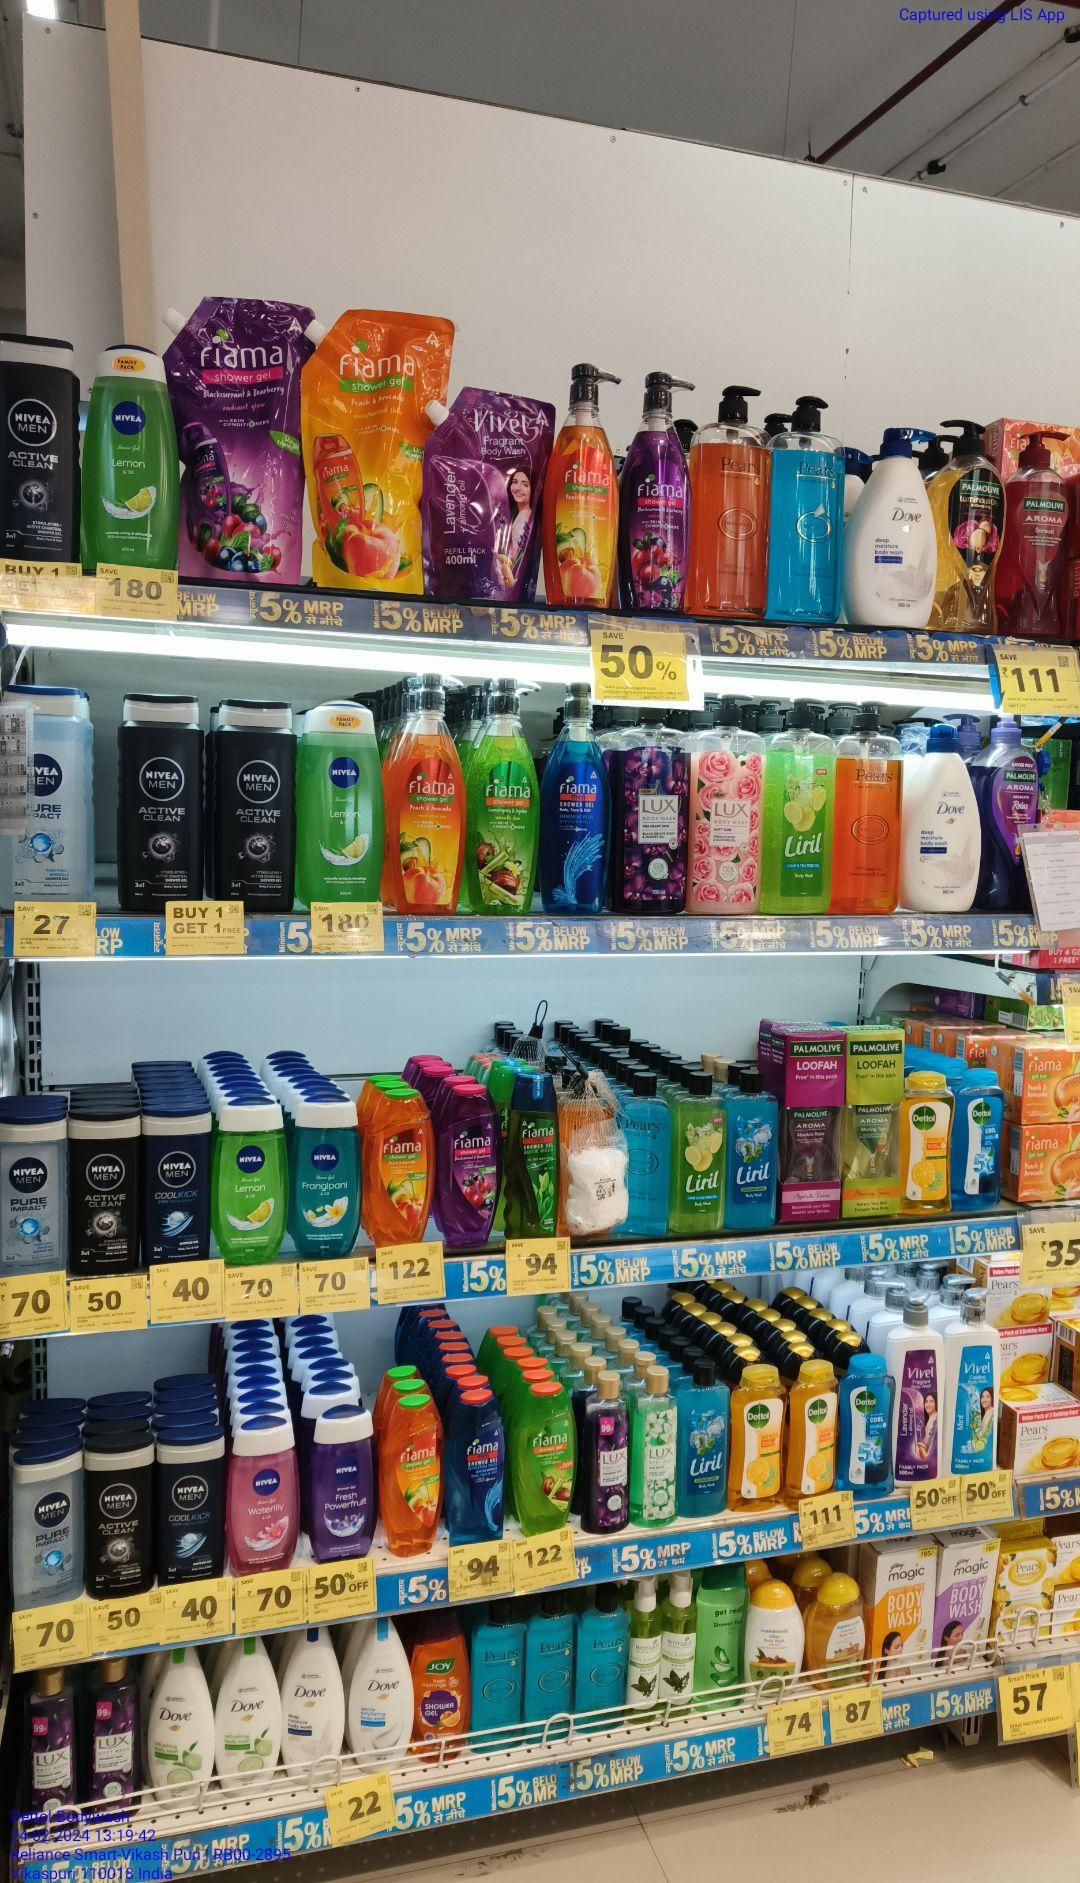Dettol_Bodywash_Cool: (351, 1610, 410, 1777), (847, 1355, 895, 1492), (957, 1071, 1000, 1212)
Dettol_Bodywash_Refresh: (732, 1366, 781, 1513), (903, 1075, 951, 1217), (789, 1355, 836, 1491)
Dove_Deep_Moisture_Body_Wash_250ML: (288, 1633, 340, 1777)
Dove_Refreshing_Body_Wash_250ML: (150, 1650, 217, 1816), (220, 1640, 277, 1796)
Fiama_Shower_Gel_Lemongrass_and_Jojoba_250ML: (512, 1385, 573, 1535)
Fiama_Shower_Gel_Peach_and_Avocado_250ML: (370, 1086, 433, 1245), (379, 1398, 437, 1561)
Joy_Shower_Gel_Mandarin_and_Lemongrass_250ML: (415, 1614, 471, 1754)
Liril_Cooling_Mint_Body_Wash_250ML: (729, 1067, 779, 1232), (683, 1359, 727, 1518)
Liril_Lime_and_Tea_Tree_Oil_Body_Wash_250ML: (675, 1080, 724, 1235)
Lux_Black_Orchid_Scent_and_Juniper_Oil_Body_Wash_245ML: (21, 1663, 83, 1838), (91, 1661, 144, 1820), (585, 1376, 630, 1533)
Lux_Body_Wash_Skin_Detox_Freesia_Scent_and_Alove_Vera_245ML: (634, 1371, 678, 1529)
Nivea_Shower_Gel_Frangipani_and_Oil_250ML: (294, 1102, 362, 1258)
Nivea_Shower_Gel_Fresh_Powerfruit_250ML: (312, 1403, 374, 1555)
Nivea_Shower_Gel_Lemon_and_Oil_250ML: (85, 332, 177, 566), (297, 693, 383, 907), (215, 1095, 291, 1266)
Nivea_Shower_Gel_Waterlily_and_Oil_250ML: (230, 1426, 300, 1570)
Pears_Pure_Glycerin_and_Mint_Extracts_Body_Wash_250ML: (579, 1583, 630, 1732), (475, 1608, 523, 1760), (525, 1604, 576, 1742), (630, 1075, 669, 1235)
